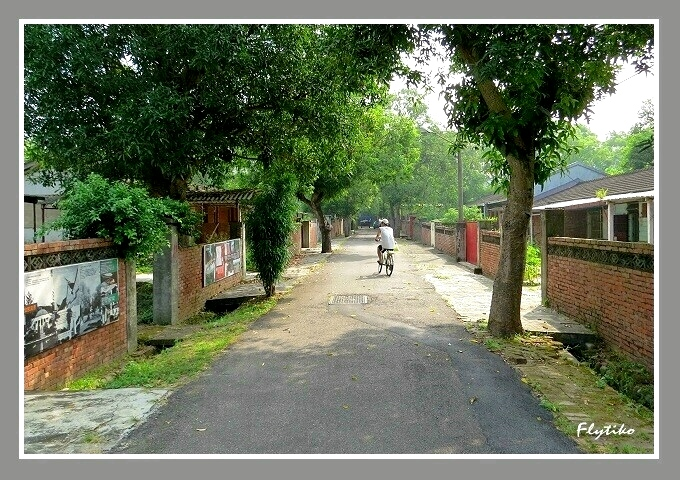people: (374, 218, 396, 273)
